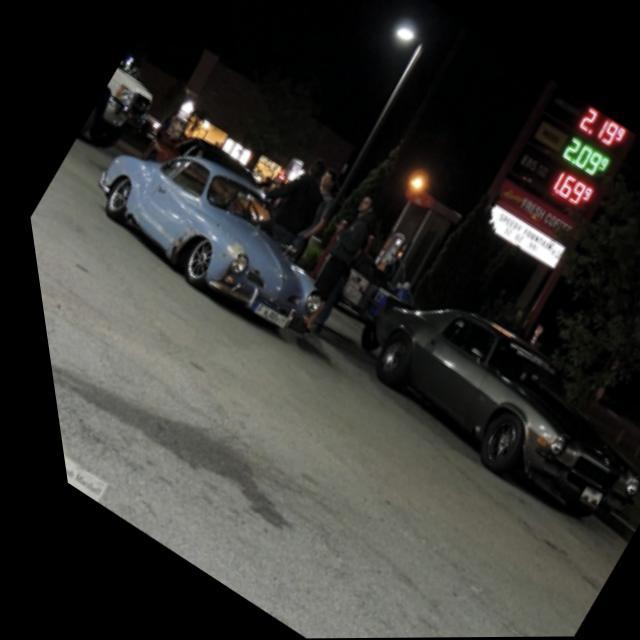license_plate: (237, 296, 280, 331)
